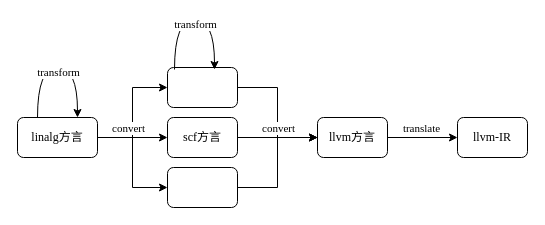
Image size: 545x225. Some labels were removed from this diagram. The centre of each missing label's shape, as x and y in pixels:
affine方言: [202,87]
其他方言: [202,187]
